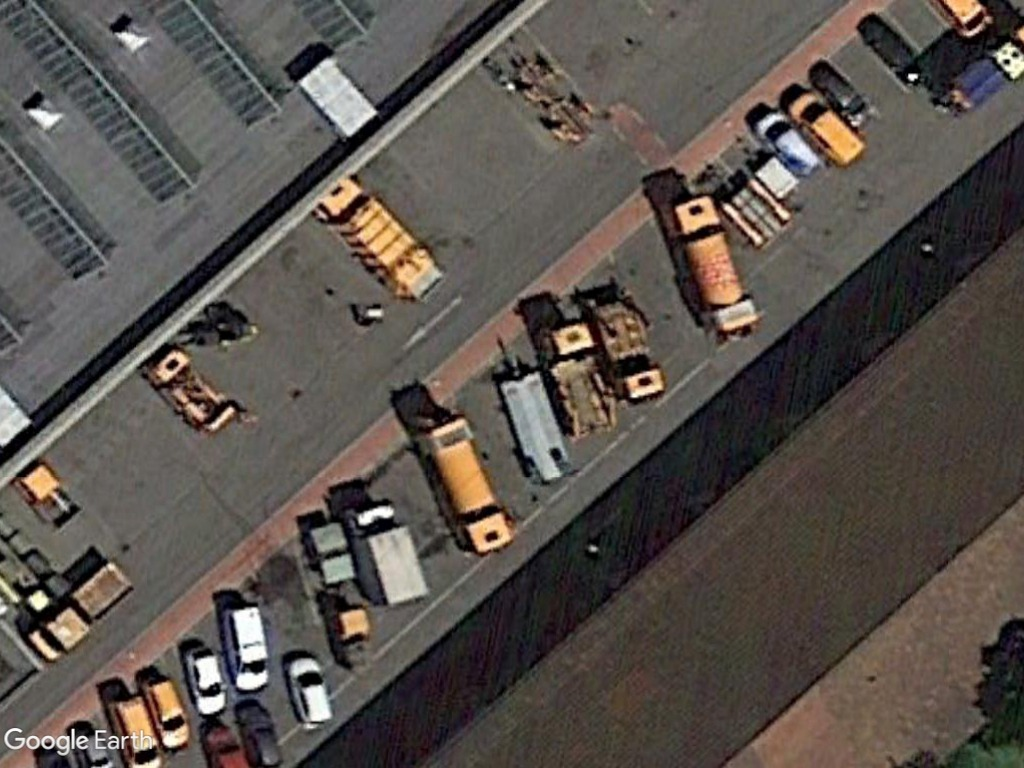car: (217, 605, 274, 698), (285, 651, 339, 734), (140, 677, 193, 752)
other: (664, 194, 761, 333), (415, 423, 516, 556)
van: (786, 91, 867, 168), (750, 110, 824, 182)
